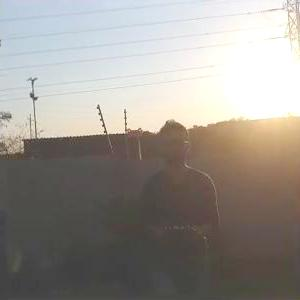follow: (136, 114, 225, 298)
